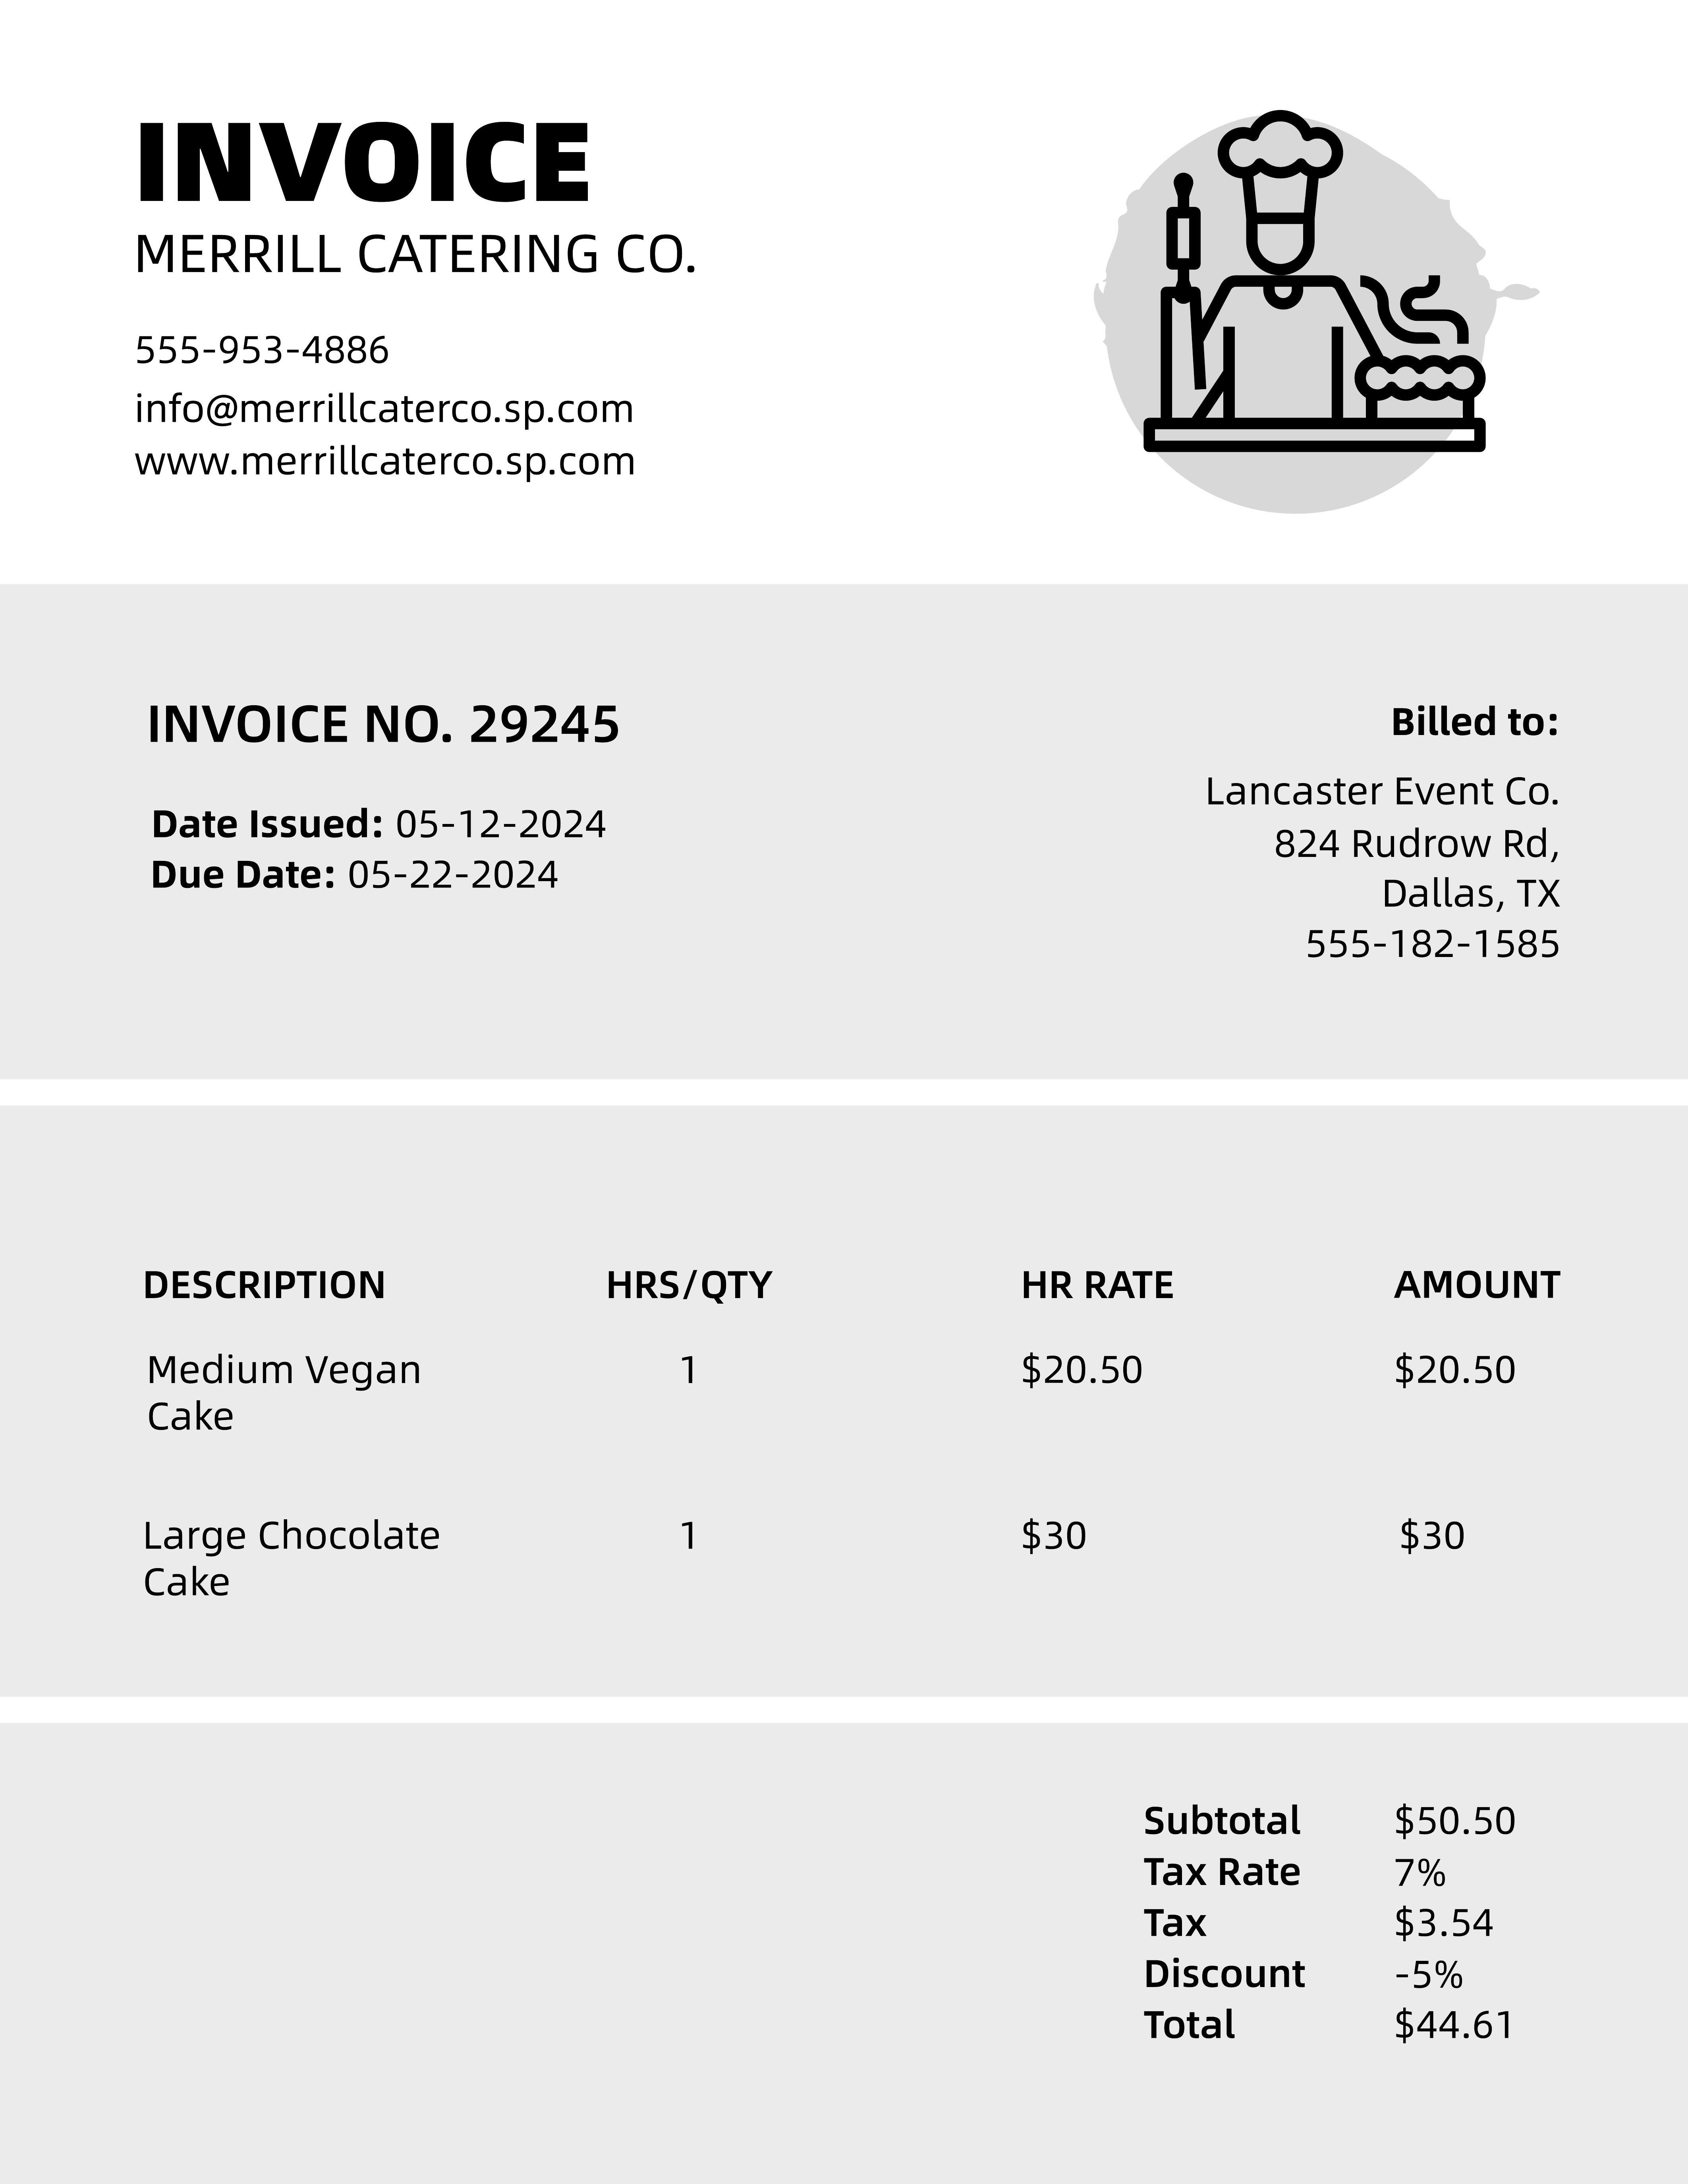ROI: (139, 1243, 1565, 1608), (111, 214, 790, 488), (123, 651, 703, 925), (1132, 1795, 1553, 2061), (1196, 679, 1581, 969)
